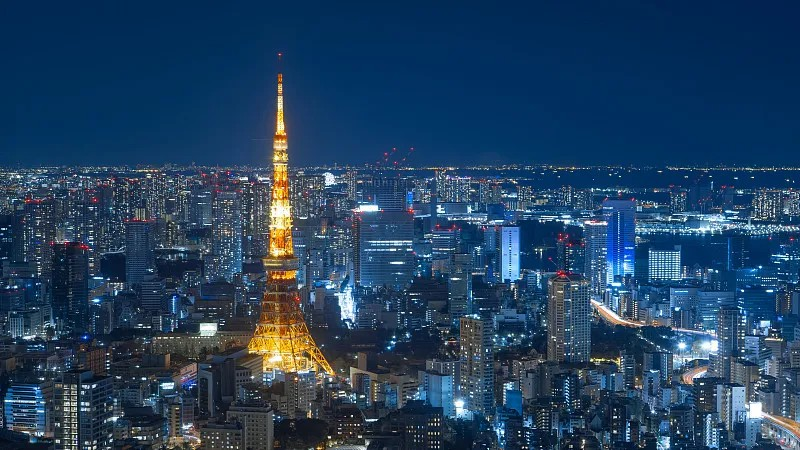Tokyo: (247, 49, 338, 376)
